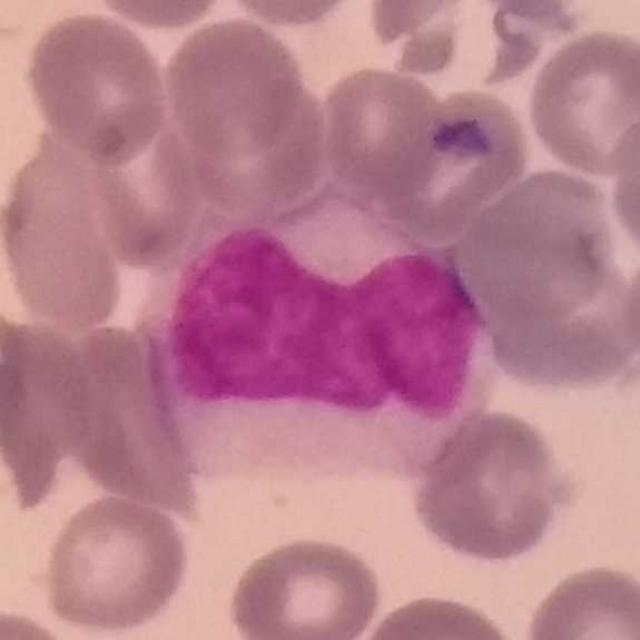mono: (131, 177, 500, 477)
